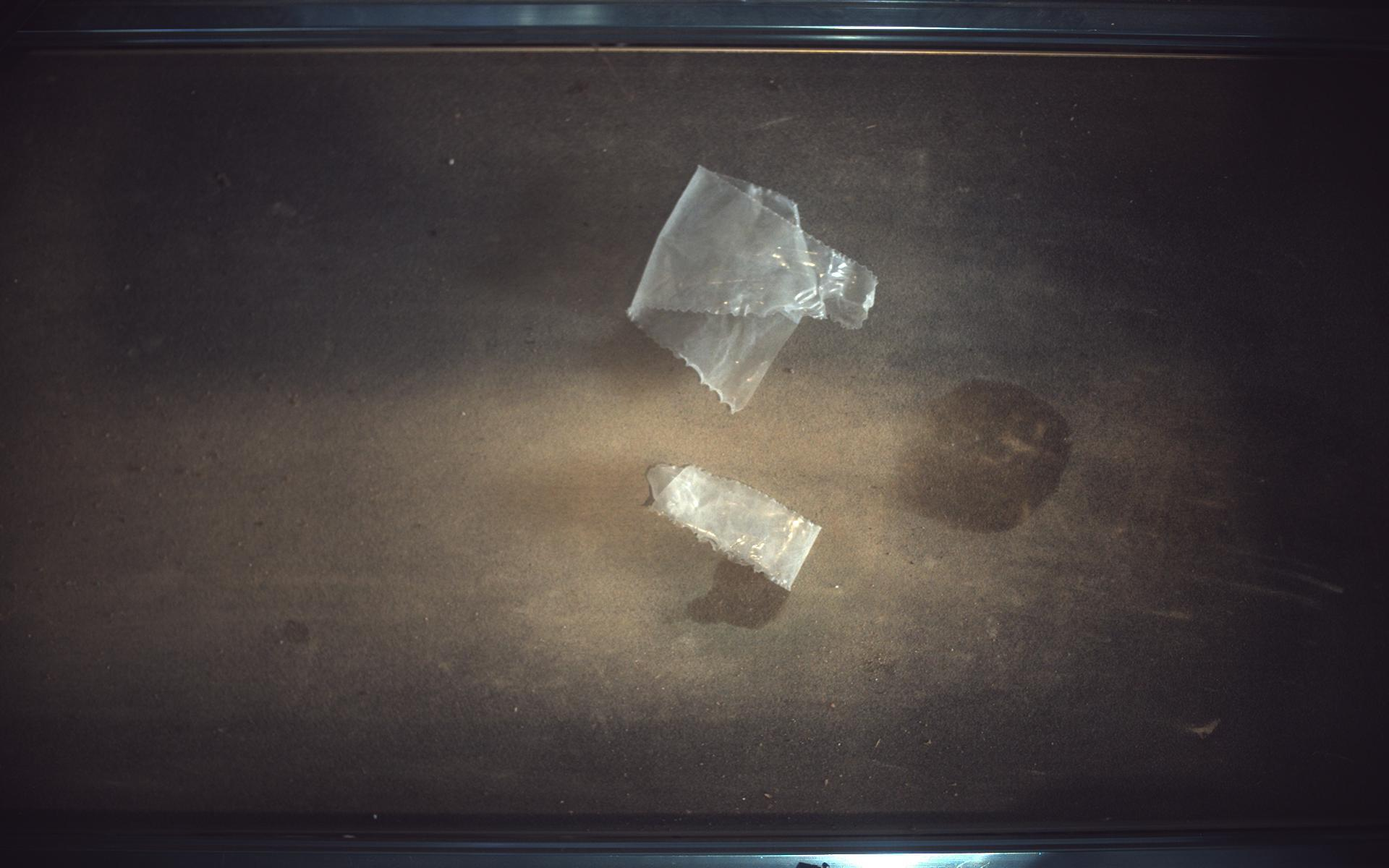general_w: (629, 166, 878, 412), (647, 464, 823, 591)
